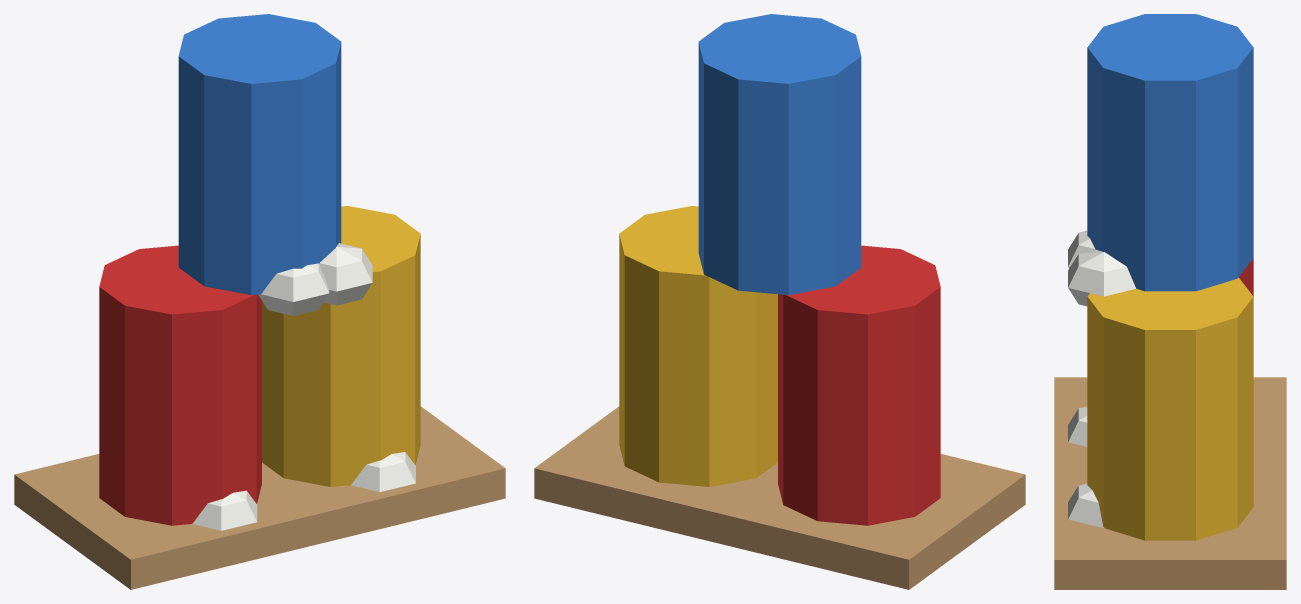
The model's file is fair_glued_cans.glb.
3 views of the same model, side by side, from view 1: azimuth 30°, elevation 25°; view 2: azimuth 150°, elevation 25°; view 3: azimuth 270°, elevation 25° (orthographic).
Visible parts, largest first — view 1: cans, board_fair_wood, glue_glue_white; view 2: cans, board_fair_wood; view 3: cans, board_fair_wood, glue_glue_white.
Part boxes in pixels (x1,y1,x2,y2): cans: [99, 14, 420, 525]; board_fair_wood: [14, 406, 505, 589]; glue_glue_white: [192, 243, 415, 530]; cans: [619, 14, 940, 525]; board_fair_wood: [534, 406, 1025, 589]; cans: [1087, 14, 1253, 540]; board_fair_wood: [1054, 377, 1286, 589]; glue_glue_white: [1068, 230, 1135, 528].
Bounding box in the file's own units: 0.26 × 0.3 × 0.14.
